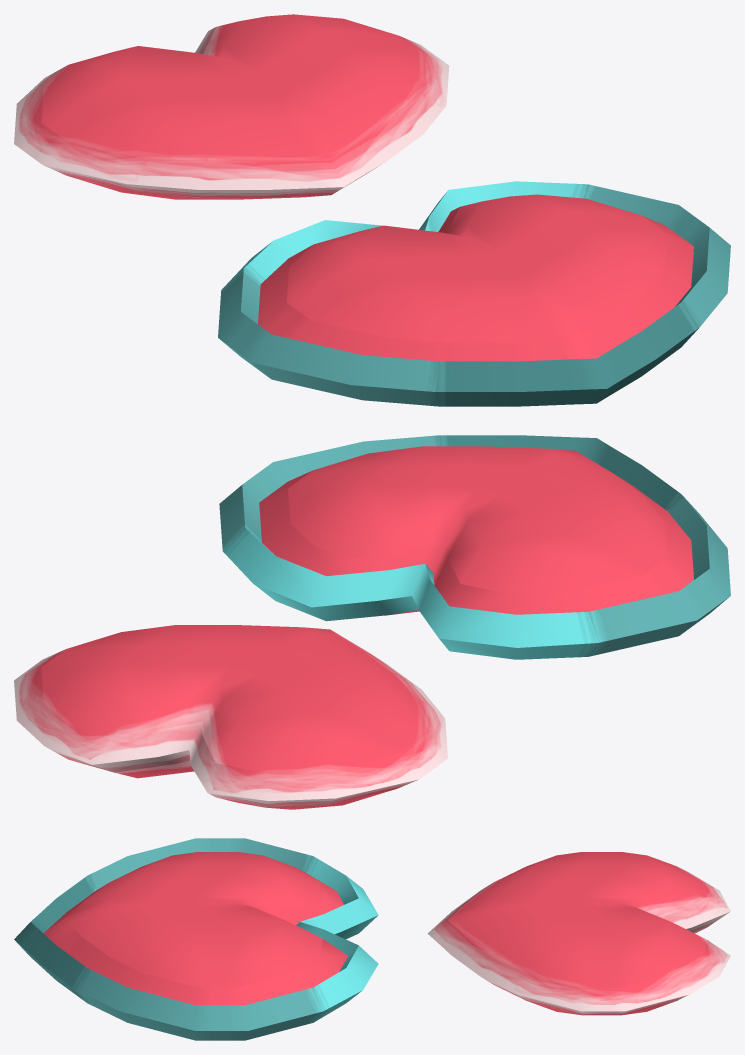
Rendered from Hearts.fbx.
3 renders of one model, top to bottom at view 1: azimuth 30°, elevation 25°; view 2: azimuth 150°, elevation 25°; view 3: azimuth 270°, elevation 25°, orthographic. The views are drawn at different scales.
Visible parts, largest first — view 1: Object001, Object002, Plane001; view 2: Object001, Object002, Plane001; view 3: Object001, Object002, Plane001.
Boxes of the visible parts, bbox=[...] form: Object001: bbox=[14, 14, 449, 199]; Object002: bbox=[258, 194, 693, 361]; Plane001: bbox=[218, 181, 730, 406]; Object001: bbox=[14, 625, 447, 809]; Object002: bbox=[259, 446, 693, 615]; Plane001: bbox=[219, 435, 730, 659]; Object001: bbox=[427, 852, 730, 1015]; Object002: bbox=[43, 852, 347, 1005]; Plane001: bbox=[14, 838, 378, 1040].
Bounding box in the file's own units: 88.4 × 16.81 × 146.
Materials: 1 (1 with a texture image).
